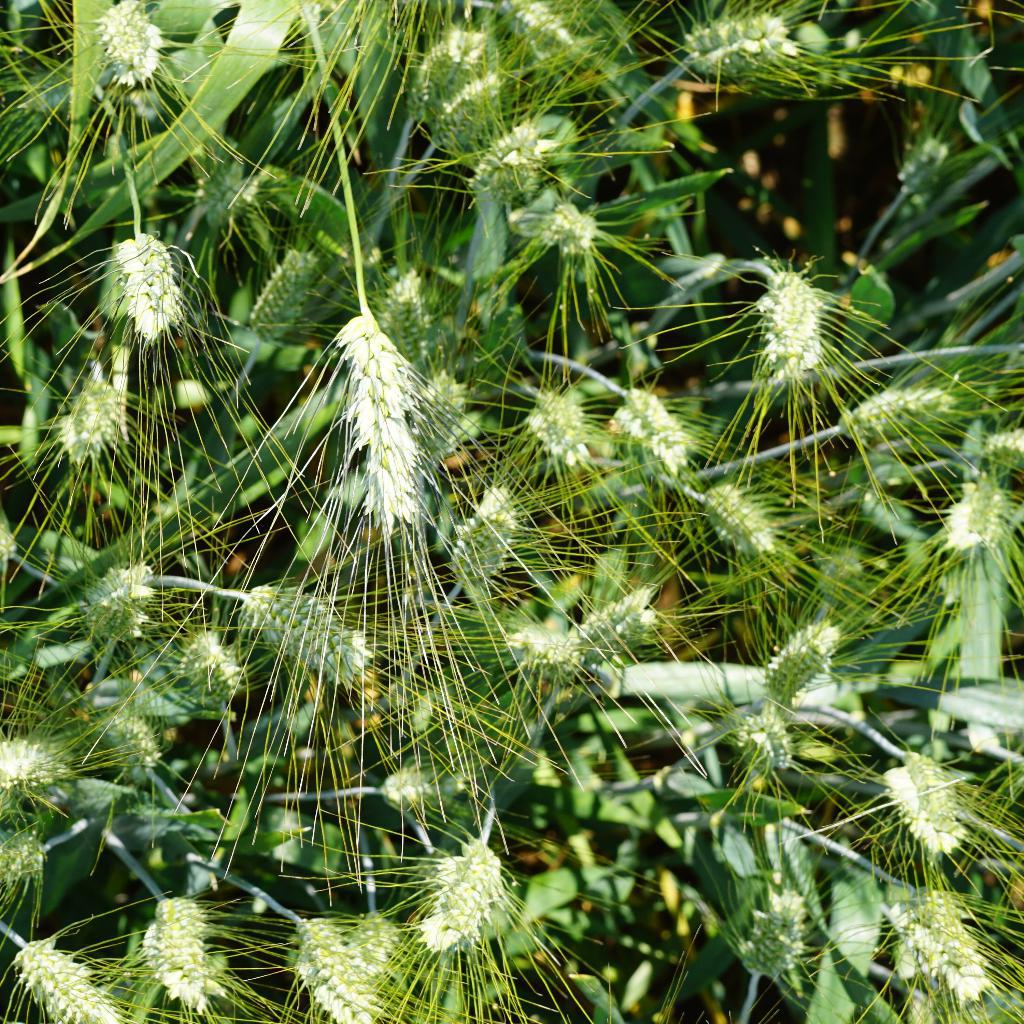0-0: (332, 310, 440, 524), (227, 567, 387, 695), (411, 818, 520, 953), (890, 875, 1001, 1006), (3, 925, 134, 1024), (878, 742, 980, 860), (138, 888, 234, 1013), (747, 257, 836, 387), (725, 866, 818, 989), (428, 471, 522, 589), (559, 571, 664, 675), (822, 369, 959, 447), (294, 912, 381, 1024), (758, 604, 848, 710), (602, 373, 699, 470), (389, 19, 478, 124), (681, 464, 778, 559), (400, 360, 486, 467), (497, 381, 597, 473), (681, 4, 799, 81), (111, 225, 190, 340), (73, 544, 152, 657), (88, 0, 180, 94), (369, 253, 439, 376), (247, 231, 322, 344), (428, 66, 512, 160), (370, 761, 523, 811), (946, 458, 1020, 561), (494, 0, 597, 73), (464, 118, 541, 210), (51, 362, 119, 462), (175, 623, 251, 712), (333, 897, 404, 991), (192, 155, 272, 233), (515, 194, 612, 256), (505, 617, 591, 683), (890, 126, 958, 207), (811, 527, 879, 607), (722, 699, 798, 768), (101, 701, 164, 773), (3, 732, 58, 799), (0, 825, 48, 890), (922, 996, 1007, 1024), (974, 415, 1024, 455)
